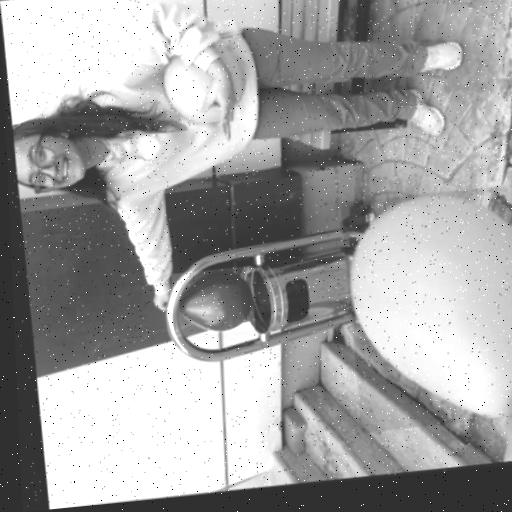balloon: (337, 184, 512, 434), (161, 37, 252, 131), (168, 265, 252, 337)
